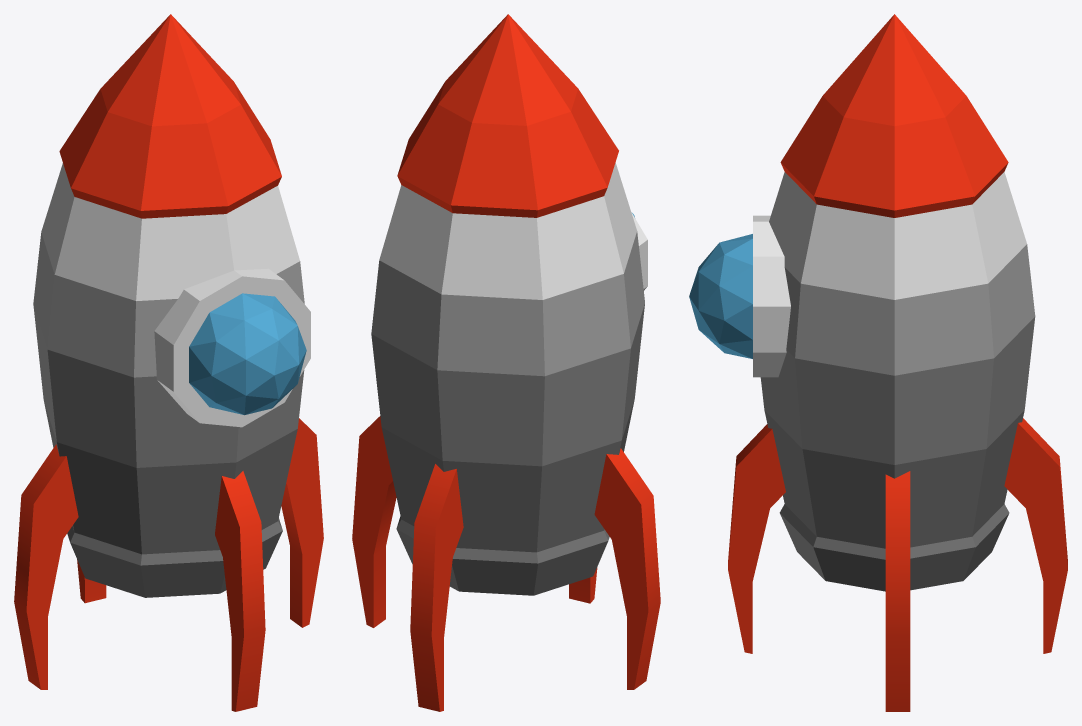
File: rocket.fbx
3 renders of one model, left to right at view 1: azimuth 30°, elevation 25°; view 2: azimuth 150°, elevation 25°; view 3: azimuth 270°, elevation 25°, orthographic.
Visible parts, largest first — view 1: Rocket Ship 01; view 2: Rocket Ship 01; view 3: Rocket Ship 01.
Part boxes in pixels (x1,y1,x2,y2): Rocket Ship 01: [14, 14, 323, 711]; Rocket Ship 01: [352, 14, 660, 711]; Rocket Ship 01: [689, 14, 1067, 711].
Size of the model in its own units: 37.17 by 76.65 by 41.45.
